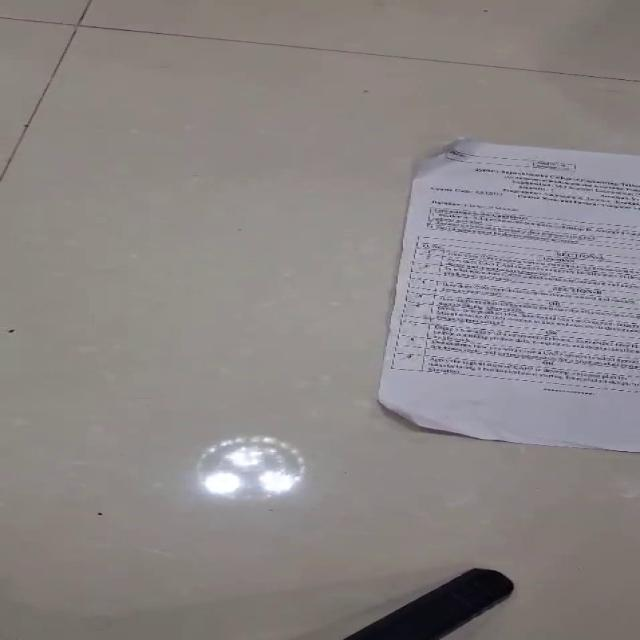paper: (375, 136, 639, 452)
